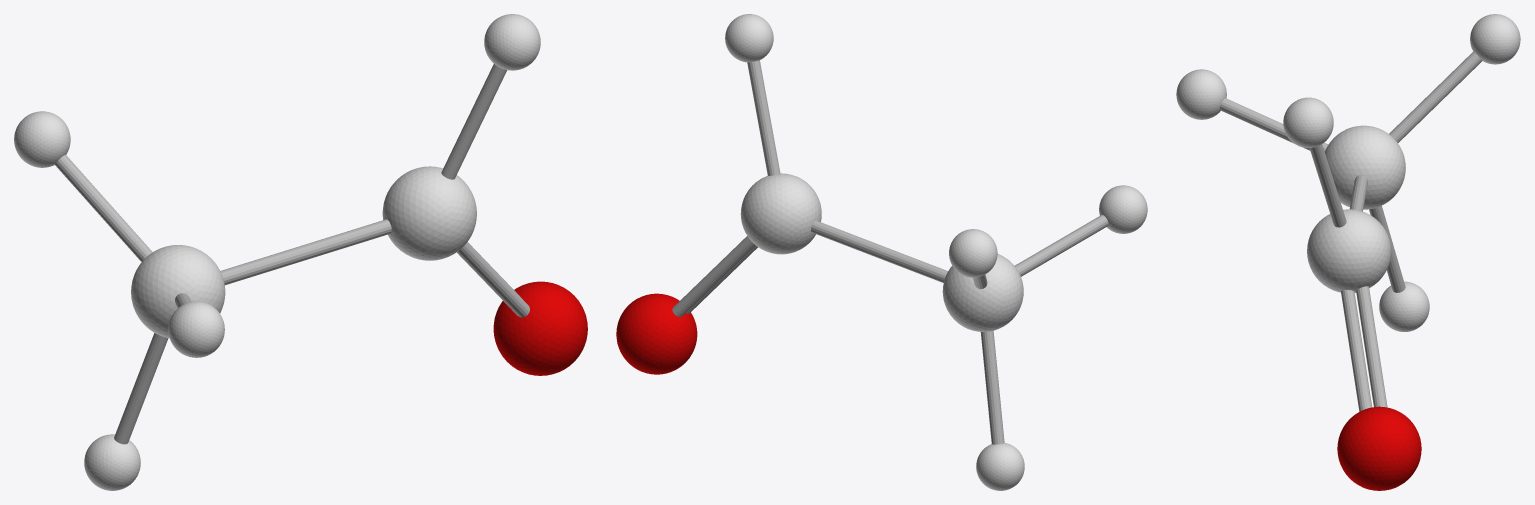
3 renders of one model, left to right at view 1: azimuth 30°, elevation 25°; view 2: azimuth 150°, elevation 25°; view 3: azimuth 270°, elevation 25°, orthographic. The views are drawn at different scales.
Visible parts, largest first — view 1: world; view 2: world; view 3: world.
Part boxes in pixels (<box>): world: <box>14,14,587,490</box>; world: <box>616,14,1147,490</box>; world: <box>1176,14,1520,490</box>.
Bounding box in the file's own units: 3.11 × 2.49 × 2.04.
